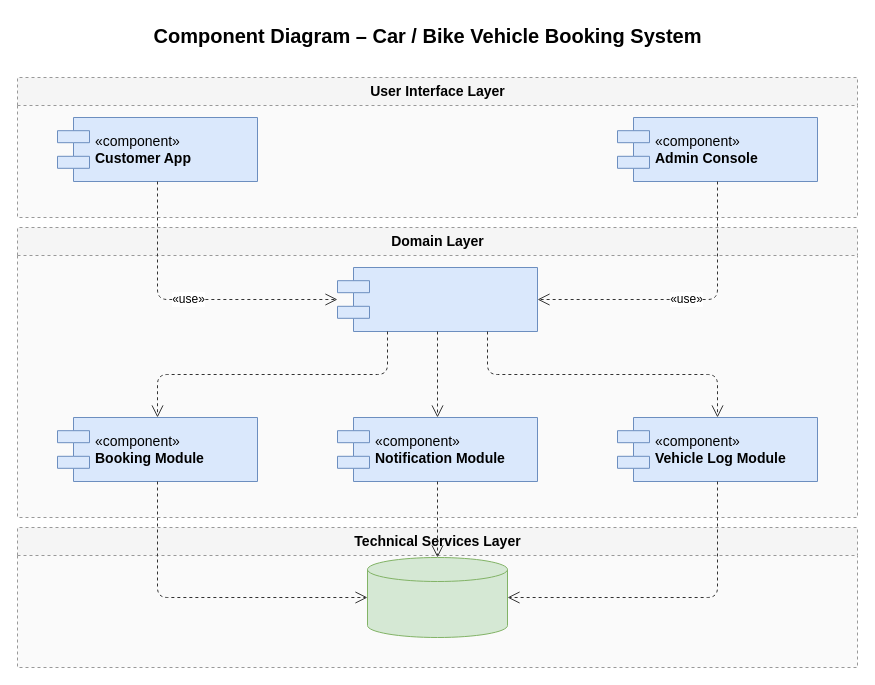
Some shapes in this 875 by 685 pixel diagram are drawn without their labels. The shapes that lost their labels are listed below. From the top down, each one's centre as x and y in pixels, then its label:
At (437,299): "«component» Vehicle Rental System".
At (437,597): "Rental DB".
